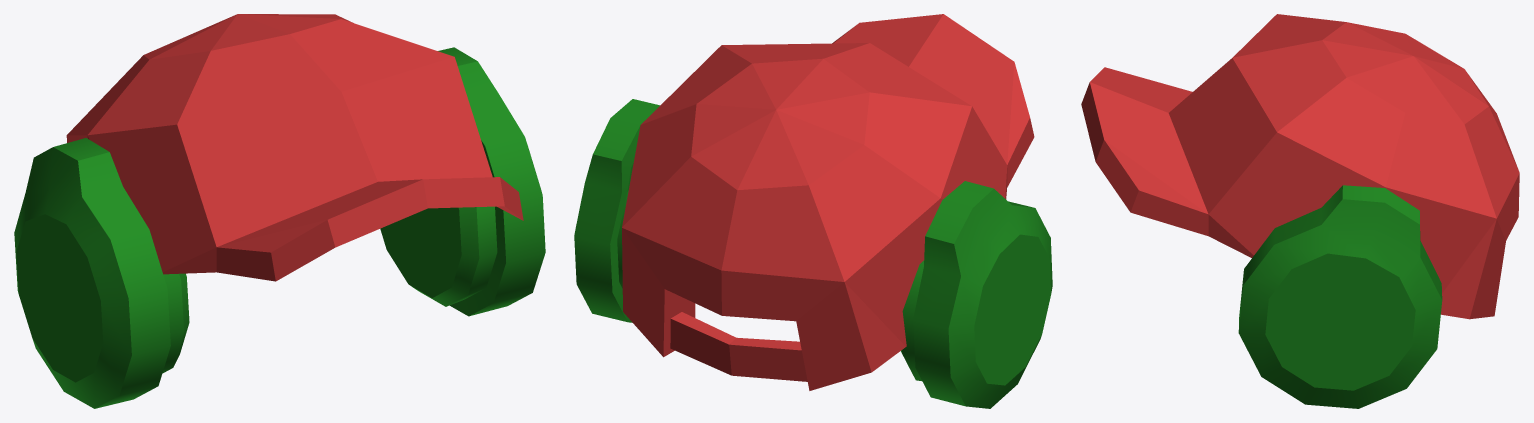
Rendered from Cap (v.1).fbx.
The picture shows the model from 3 angles, left to right: view 1: azimuth 30°, elevation 25°; view 2: azimuth 150°, elevation 25°; view 3: azimuth 270°, elevation 25°; orthographic projection. The views are drawn at different scales.
Parts seen in each view (by area): view 1: Cap_Headphones; view 2: Cap_Headphones; view 3: Cap_Headphones.
Boxes of the visible parts, x1=… form: Cap_Headphones: x1=14, y1=14, x2=545, y2=408; Cap_Headphones: x1=574, y1=14, x2=1052, y2=408; Cap_Headphones: x1=1081, y1=14, x2=1519, y2=408.
Bounding box in the file's own units: 78.08 × 54.47 × 76.81.
